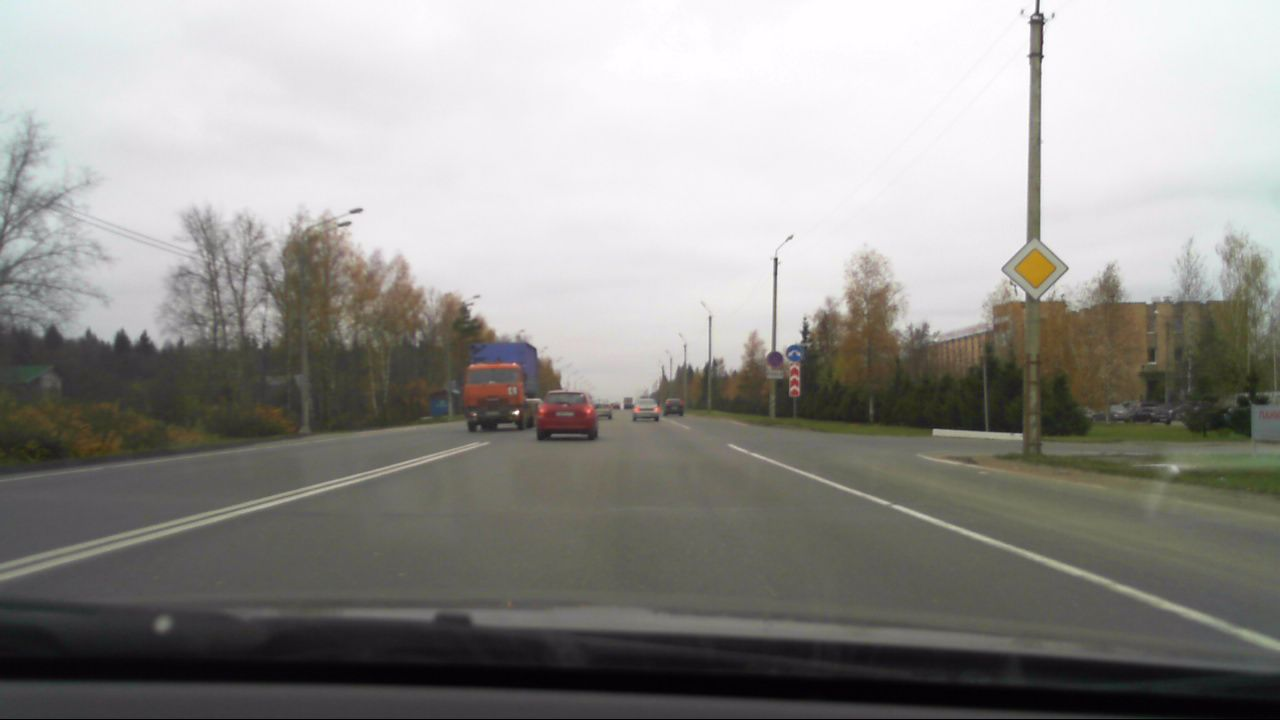No Parking: (766, 348, 784, 369)
